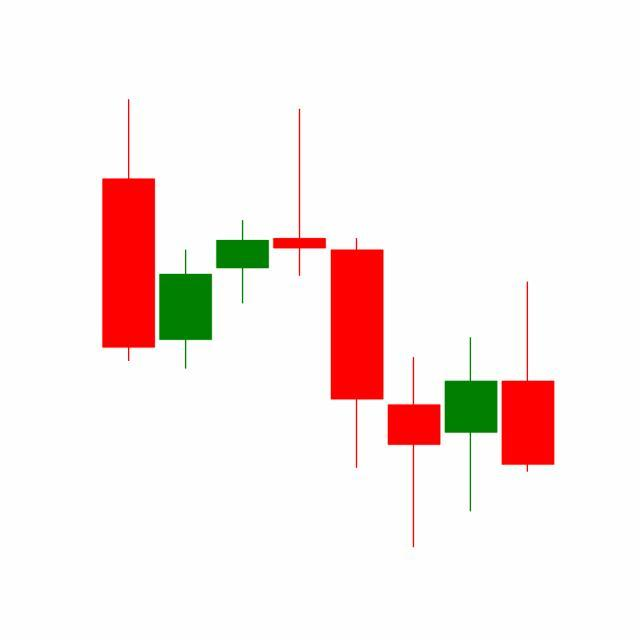Upside-Downside Gap Three Methods: (328, 234, 500, 548)
